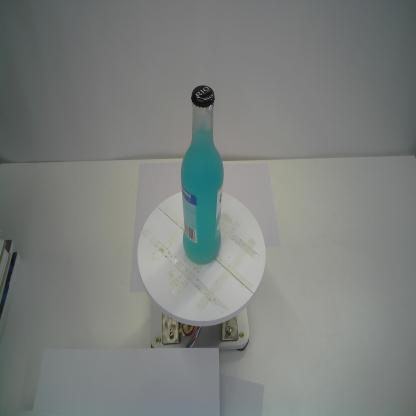Alcohol: (180, 84, 226, 266)
